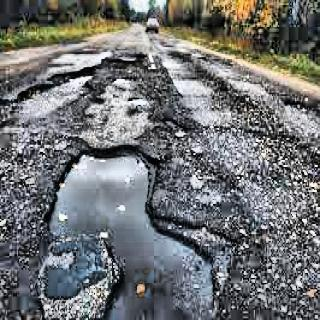pothole: (42, 146, 220, 320), (9, 57, 97, 120), (123, 94, 150, 111), (112, 74, 137, 90)
